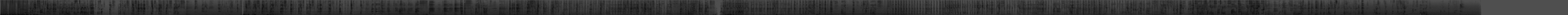Moan: (371, 0, 374, 15), (415, 0, 418, 15)
